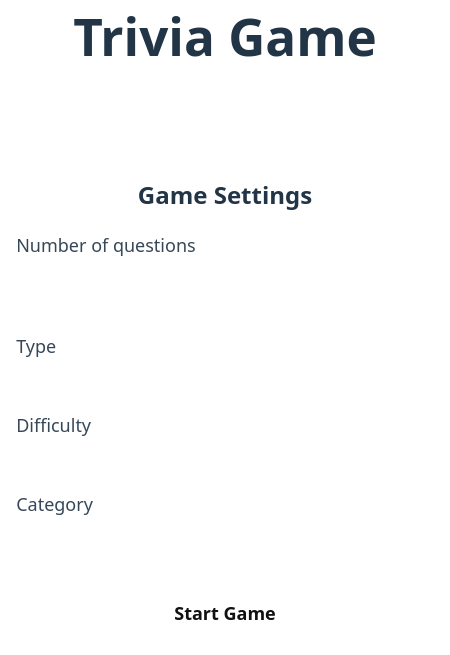
Test: App Flow Test › After submitting settings, fetches questions and shows GamePlay
Click the button "Start Game": (225, 613) [16, 588, 434, 638]
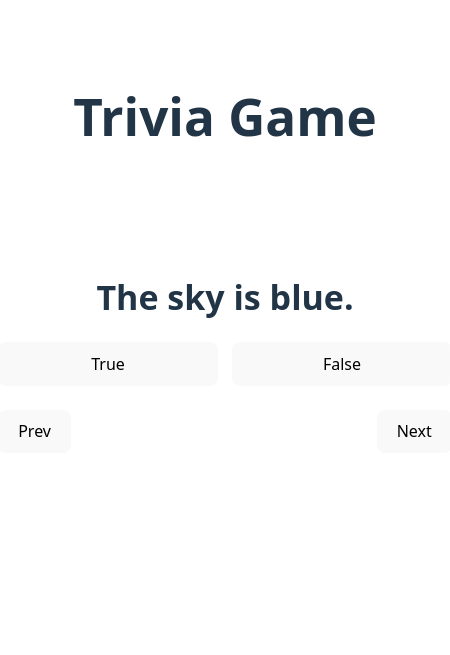
Result: the heading "The sky is blue." is shown at [96, 274, 354, 320]
